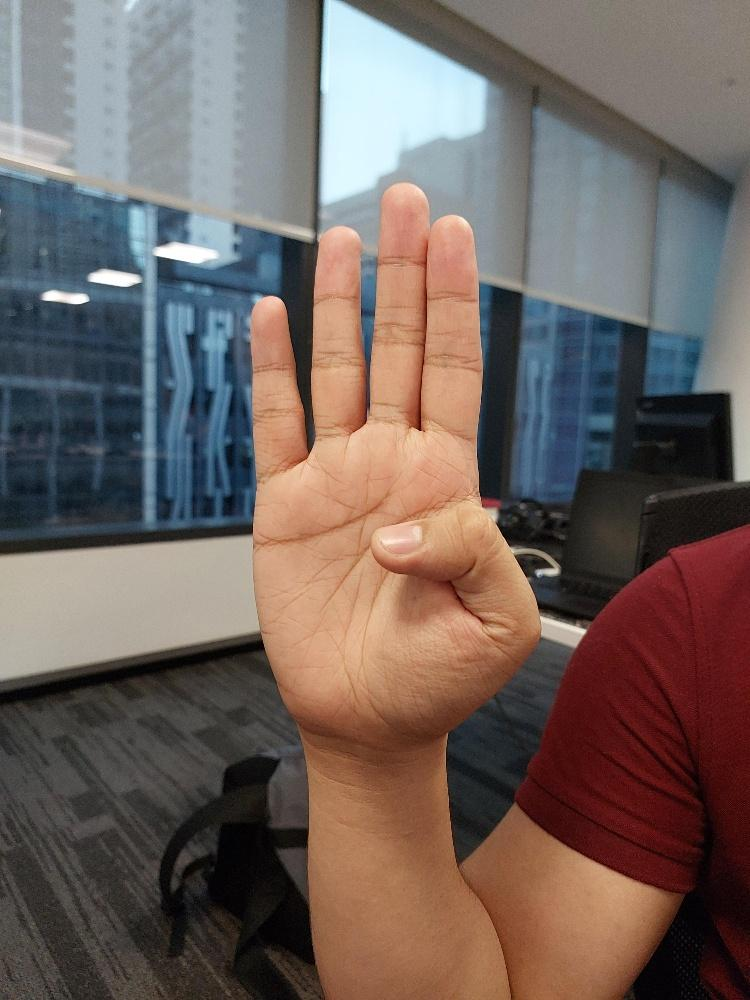b: (246, 180, 543, 753)
